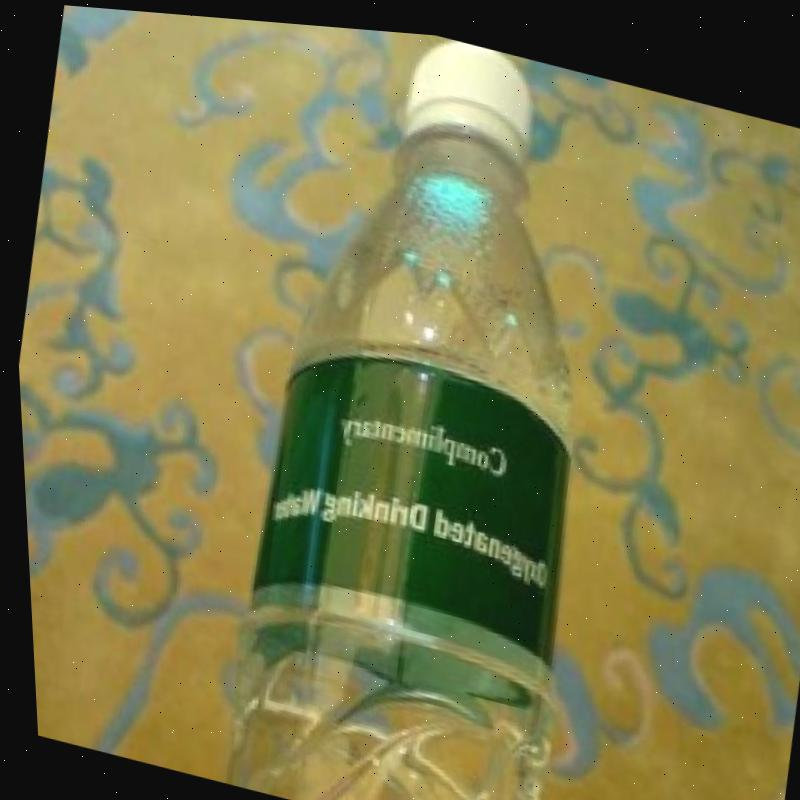botella: (182, 12, 661, 800)
